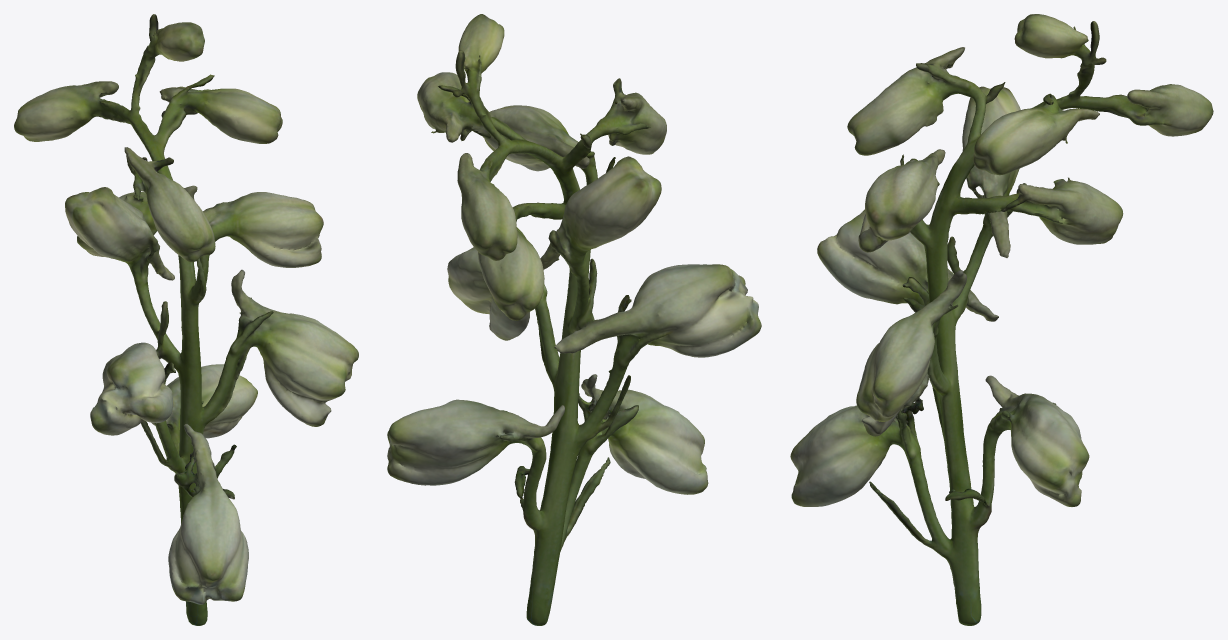
File: flower_buds.glb
3 renders of one model, left to right at view 1: azimuth 30°, elevation 25°; view 2: azimuth 150°, elevation 25°; view 3: azimuth 270°, elevation 25°, orthographic. The views are drawn at different scales.
Parts seen in each view (by area): view 1: Object_2; view 2: Object_2; view 3: Object_2.
Boxes of the visible parts, x1,y1,x2,y2 form: Object_2: [14, 14, 358, 625]; Object_2: [387, 14, 761, 625]; Object_2: [790, 14, 1213, 625].
Size of the model in its own units: 43.71 by 87.46 by 53.94.
1 material, 1 textured.
